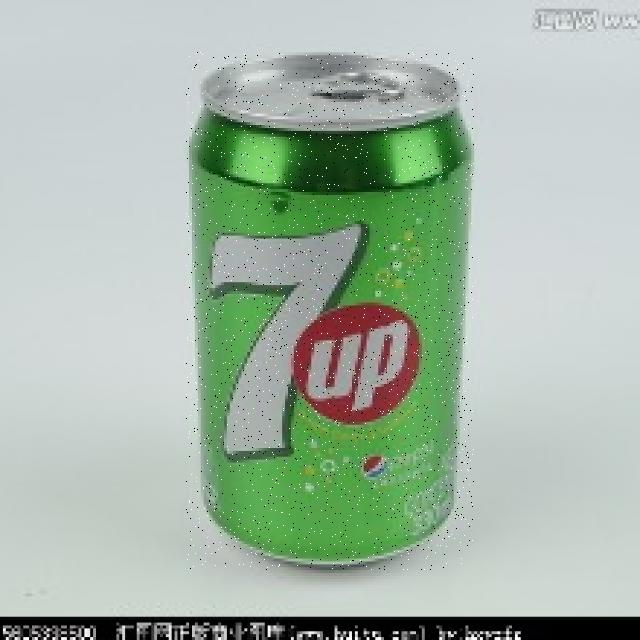metal: (186, 53, 474, 570)
